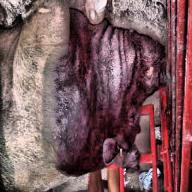boar: (0, 28, 170, 171)
